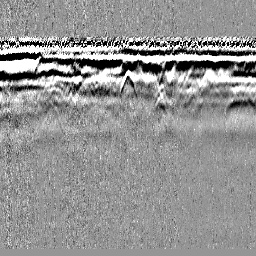cavity: (119, 68, 137, 99)
